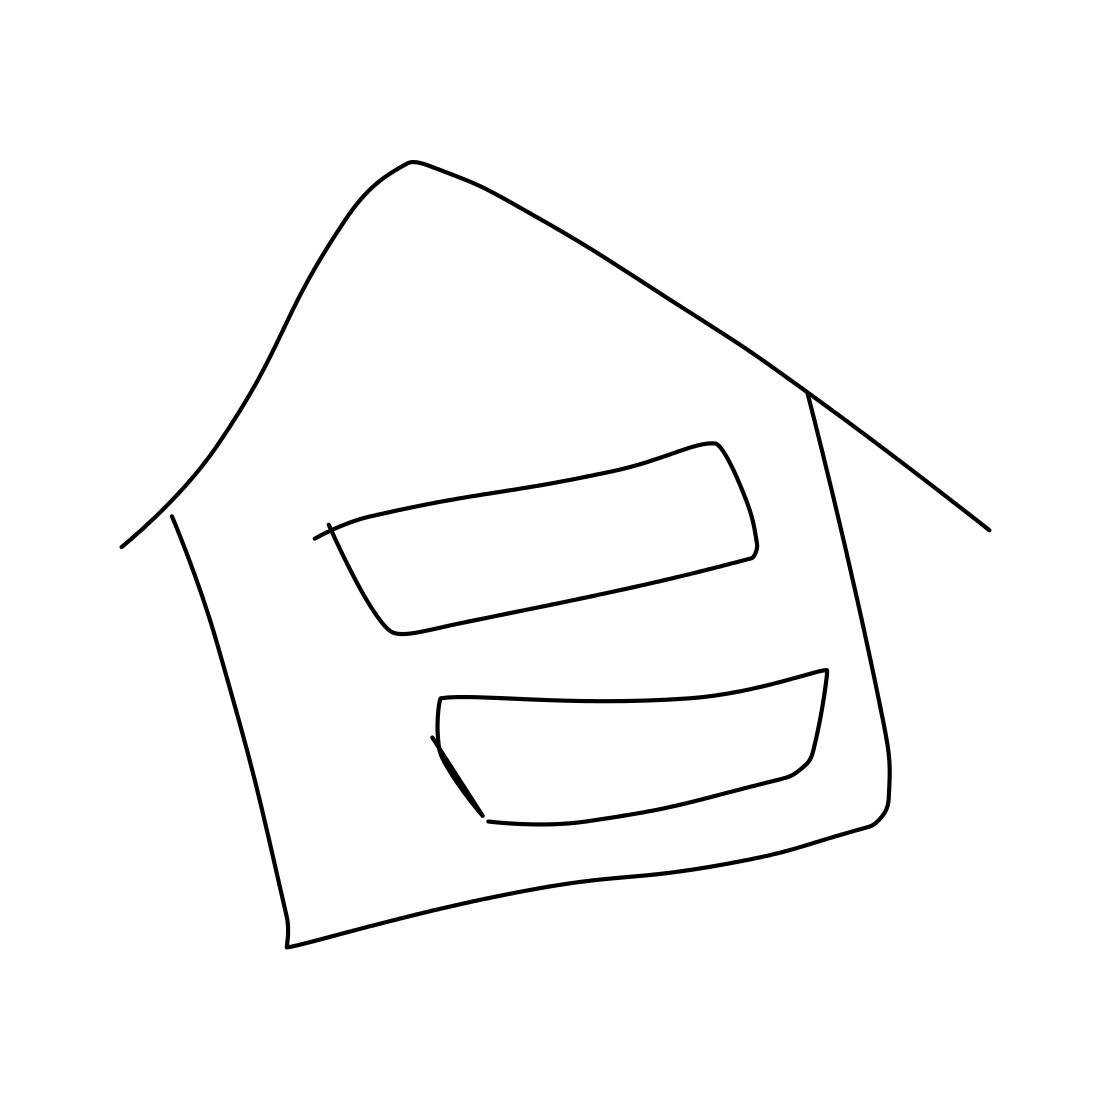House: (71, 132, 1021, 950)
